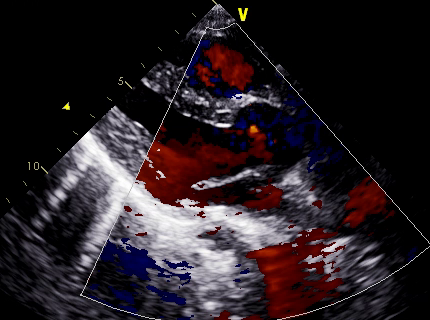AR: (182, 116, 280, 177)
